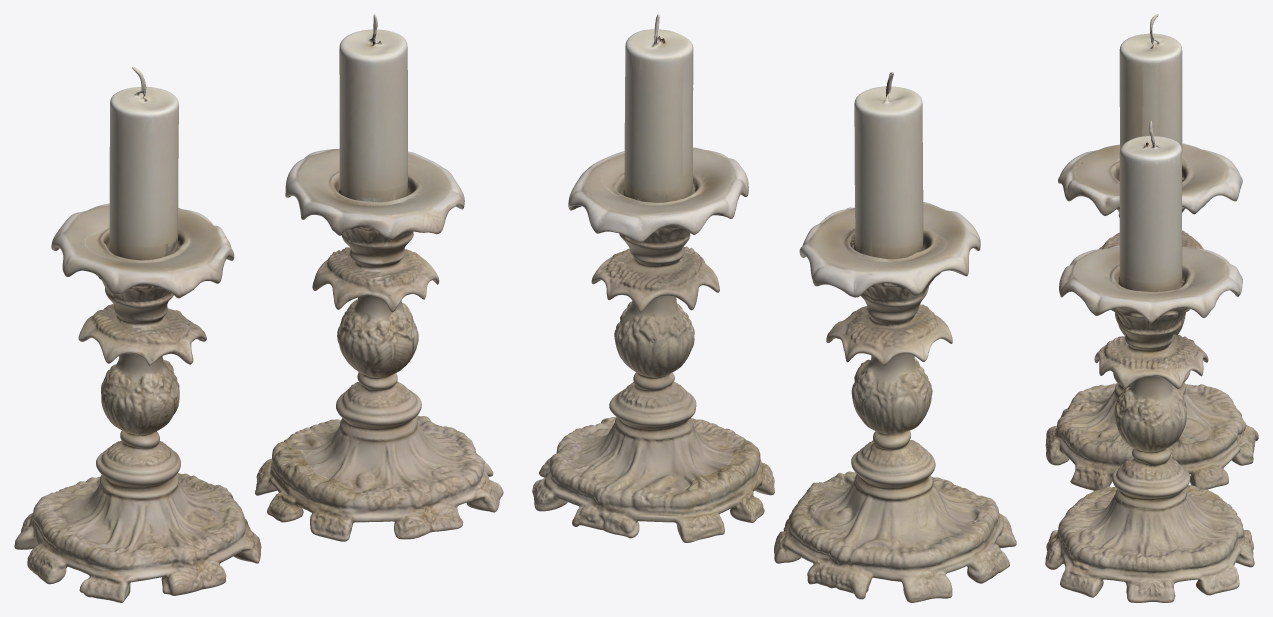
The model's file is Meshy_AI_Short_European_stlyed_0330052144_texture.glb.
3 views of the same model, side by side, from view 1: azimuth 30°, elevation 25°; view 2: azimuth 150°, elevation 25°; view 3: azimuth 270°, elevation 25° (orthographic). The views are drawn at different scales.
Bounding box in the file's own units: 1.94 × 2 × 0.8839.
Materials: 1 (1 with a texture image).
